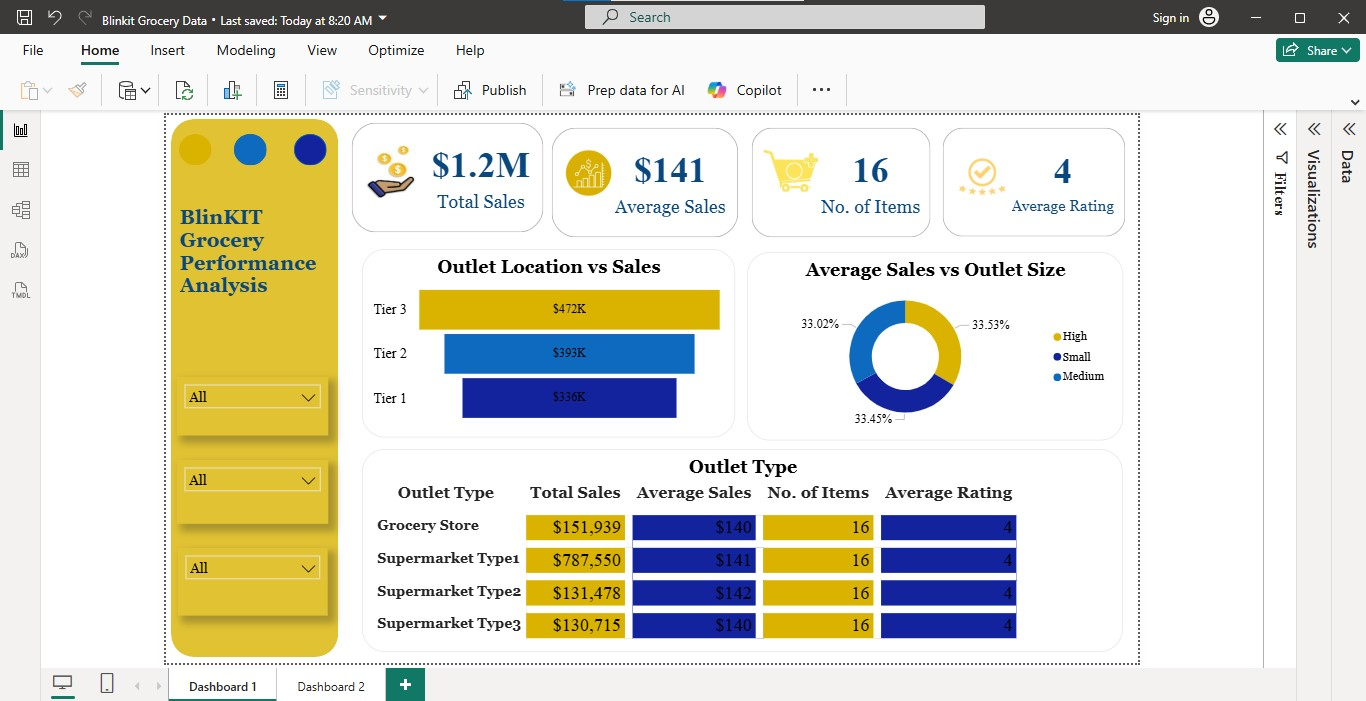

The page's visual inventory and layout, read from the dashboard file:
{"tool":"powerbi","page":{"name":"Dashboard 1","canvas":[1280,720],"ordinal":0},"visuals":[{"type":"shape","box":[7.1,5.7,220,708],"z":0,"group":"g1"},{"type":"cardVisual","fields":{"Data":["BlinkIT Grocery Data (2).Total Sales"]},"box":[240,5.7,262.9,154.3],"z":0},{"type":"cardVisual","fields":{"Data":["BlinkIT Grocery Data (2).Average Sales"]},"box":[502.9,11.4,255.7,154.3],"z":1000},{"type":"slicer","fields":{"Values":["BlinkIT Grocery Data (2).Item_Fat_Content"]},"box":[15.5,344.7,198.6,77.1],"z":1000,"group":"g1"},{"type":"cardVisual","fields":{"Data":["BlinkIT Grocery Data (2).Average Rating"]},"box":[1017.3,12,250.7,153.3],"z":2000},{"type":"shape","box":[17.1,25.7,42.9,41.4],"z":2000,"group":"g1"},{"type":"cardVisual","fields":{"Data":["BlinkIT Grocery Data (2).Number of Items"]},"box":[765.7,11.4,245.7,154.3],"z":3000},{"type":"slicer","fields":{"Values":["BlinkIT Grocery Data (2).Outlet Type"]},"box":[15.5,454.7,198.6,84.3],"z":3000,"group":"g1"},{"type":"shape","box":[168.5,25.7,42.9,41.4],"z":4000,"group":"g1"},{"type":"funnel","title":"Outlet Location vs Sales","fields":{"Category":["BlinkIT Grocery Data (2).Outlet_Location_Type"],"Y":["BlinkIT Grocery Data (2).Total Sales"]},"box":[257.3,176,490.7,248],"z":4000},{"type":"donutChart","title":"Average Sales vs Outlet Size","fields":{"Category":["BlinkIT Grocery Data (2).Outlet_Size"],"Y":["BlinkIT Grocery Data (2).Average Sales"]},"box":[764,180,494.7,248],"z":5000},{"type":"slicer","fields":{"Values":["BlinkIT Grocery Data (2).Outlet_Location_Type"]},"box":[16.9,570.4,197.1,88.6],"z":5000,"group":"g1"},{"type":"shape","box":[90,25.7,42.9,41.4],"z":6000,"group":"g1"},{"type":"pivotTable","title":"Outlet Type","fields":{"Rows":["BlinkIT Grocery Data (2).Outlet_Type"],"Values":["BlinkIT Grocery Data (2).Total Sales","BlinkIT Grocery Data (2).Average Sales","BlinkIT Grocery Data (2).Number of Items","BlinkIT Grocery Data (2).Average Rating"]},"box":[257.3,440,1001.3,266.7],"z":6000},{"type":"textbox","box":[14,114.7,200,147.1],"z":7000,"group":"g1"},{"type":"group","id":"g1","title":"Group 1","box":[7.1,5.7,220,708],"z":11001}]}

Visuals, with their boxes on the page's 1280x720 design canvas (x1, y1, x2, y2). These are canvas units, not pixel positions in the 1366x701 screenshot, which may show the page scaled, cropped or inside an application window:
shape: bbox=(7, 6, 227, 714)
cardVisual - BlinkIT Grocery Data (2).Total Sales: bbox=(240, 6, 503, 160)
cardVisual - BlinkIT Grocery Data (2).Average Sales: bbox=(503, 11, 759, 166)
slicer - BlinkIT Grocery Data (2).Item_Fat_Content: bbox=(16, 345, 214, 422)
cardVisual - BlinkIT Grocery Data (2).Average Rating: bbox=(1017, 12, 1268, 165)
shape: bbox=(17, 26, 60, 67)
cardVisual - BlinkIT Grocery Data (2).Number of Items: bbox=(766, 11, 1011, 166)
slicer - BlinkIT Grocery Data (2).Outlet Type: bbox=(16, 455, 214, 539)
shape: bbox=(168, 26, 211, 67)
"Outlet Location vs Sales" funnel: bbox=(257, 176, 748, 424)
"Average Sales vs Outlet Size" donutChart: bbox=(764, 180, 1259, 428)
slicer - BlinkIT Grocery Data (2).Outlet_Location_Type: bbox=(17, 570, 214, 659)
shape: bbox=(90, 26, 133, 67)
"Outlet Type" pivotTable: bbox=(257, 440, 1259, 707)
textbox: bbox=(14, 115, 214, 262)
"Group 1" group: bbox=(7, 6, 227, 714)
